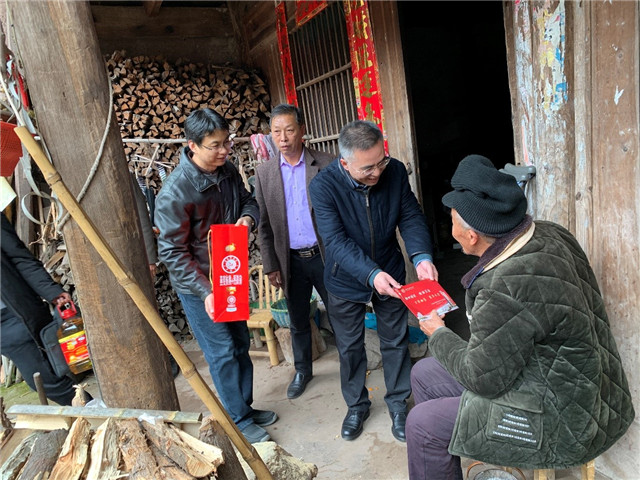noWear: (443, 194, 489, 256), (351, 147, 394, 194), (200, 129, 232, 174), (272, 118, 306, 158)
